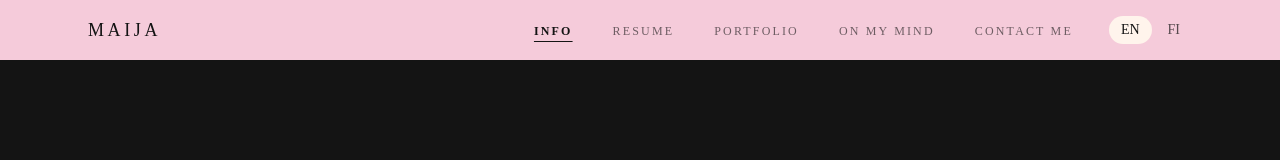
Test: TopBar › updates navigation labels when the language changes to Finnish (Req 3.7)
Expected: the link "Info" is shown, [534,24,572,38]
Expected: the link "Contact me" is shown, [971,20,1077,42]
# Switch to Finnish via the LanguageToggle inside the bar.
Step 1. Click the radio button labelled "FI" → (1174, 30), box [1156,16,1192,44]
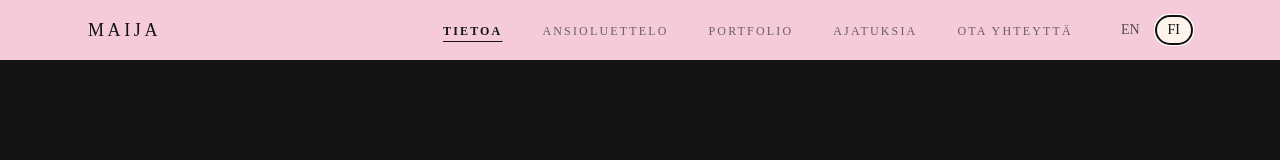
Expected: the link "Tietoa" is shown, [439,20,506,42]
Expected: the link "Ota yhteyttä" is shown, [953,20,1077,42]
Expected: the link "Info" is gone
